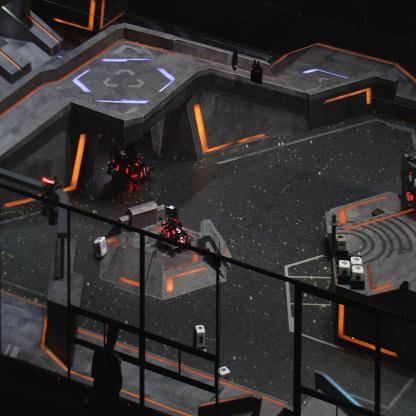car: (108, 122, 153, 189), (155, 204, 194, 257), (400, 150, 416, 220)
